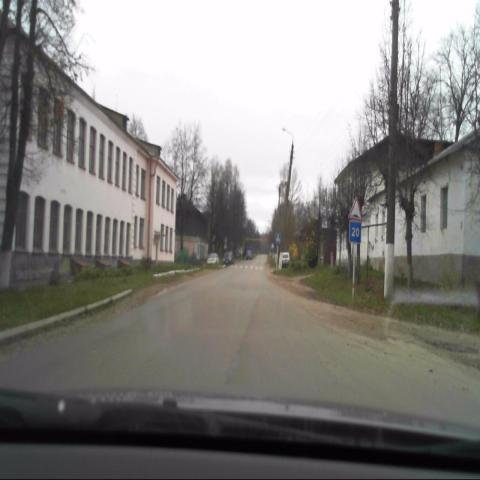6_2: (349, 221, 361, 243)
